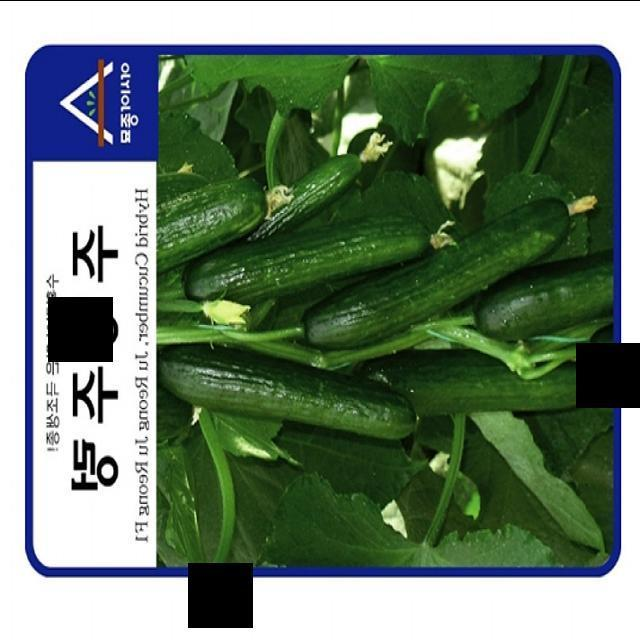cucumber: (163, 85, 616, 490), (174, 183, 476, 349), (166, 336, 440, 516), (302, 217, 592, 335)
